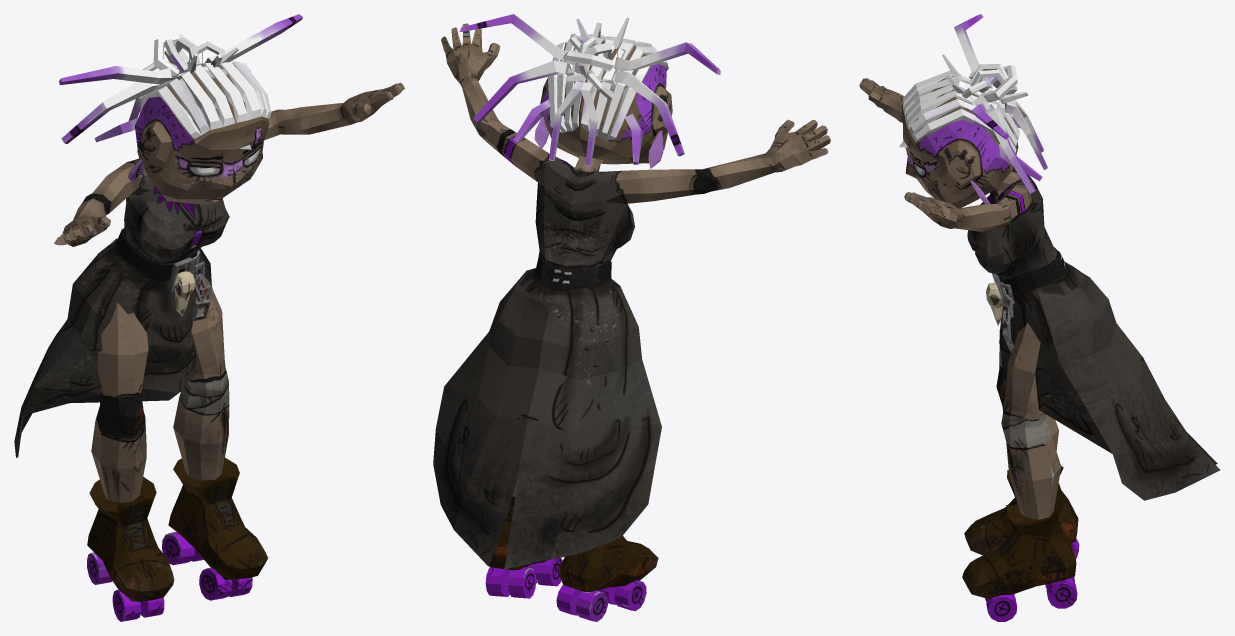
Rendered from bruja_000142.obj.
3 renders of one model, left to right at view 1: azimuth 30°, elevation 25°; view 2: azimuth 150°, elevation 25°; view 3: azimuth 270°, elevation 25°, orthographic. The views are drawn at different scales.
Visible parts, largest first — view 1: Bruja_Plane.001; view 2: Bruja_Plane.001; view 3: Bruja_Plane.001.
Boxes of the visible parts, left/top/right/bottom form: Bruja_Plane.001: left=14, top=14, right=404, bottom=621; Bruja_Plane.001: left=433, top=14, right=830, bottom=621; Bruja_Plane.001: left=859, top=14, right=1220, bottom=621.
Size of the model in its own units: 10.86 by 16.14 by 9.92.
